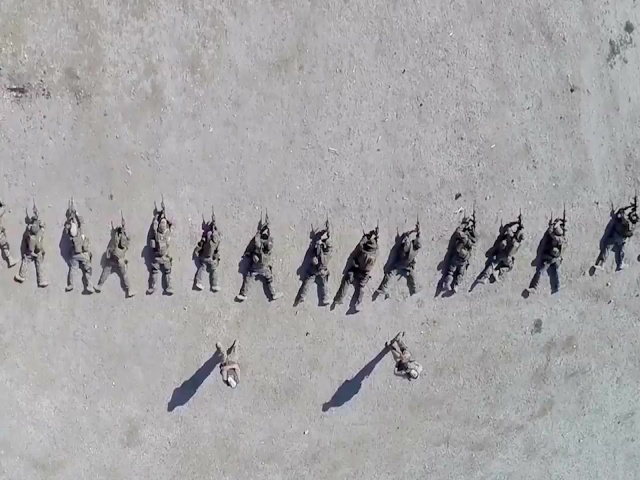person: (335, 223, 381, 315), (470, 218, 524, 295), (233, 222, 280, 305), (524, 215, 568, 298), (591, 204, 640, 276), (437, 216, 480, 298), (377, 225, 423, 301), (295, 222, 334, 308), (95, 222, 135, 298), (14, 207, 50, 287), (62, 205, 93, 293), (191, 221, 227, 295), (145, 205, 173, 296), (384, 330, 423, 381), (211, 339, 243, 391)
